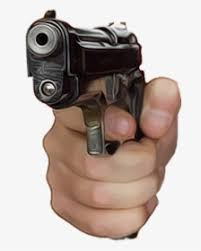gun: (24, 8, 181, 240)
